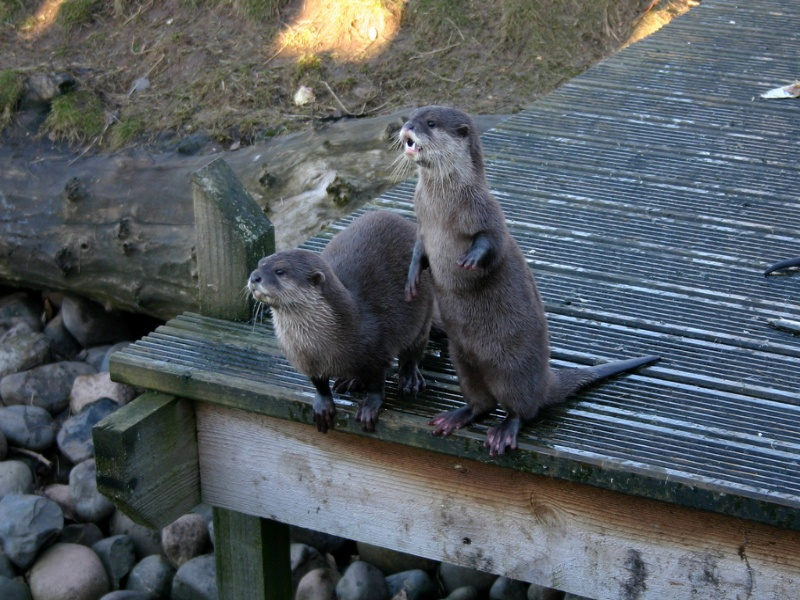minkish: (394, 105, 669, 462), (239, 208, 433, 435)
